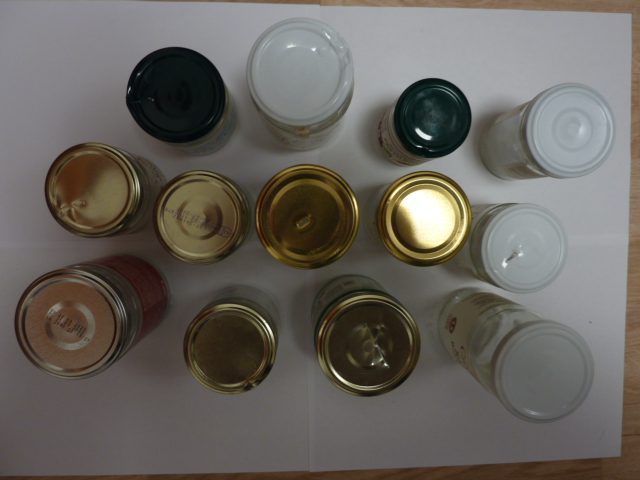intact: (528, 83, 617, 178)
